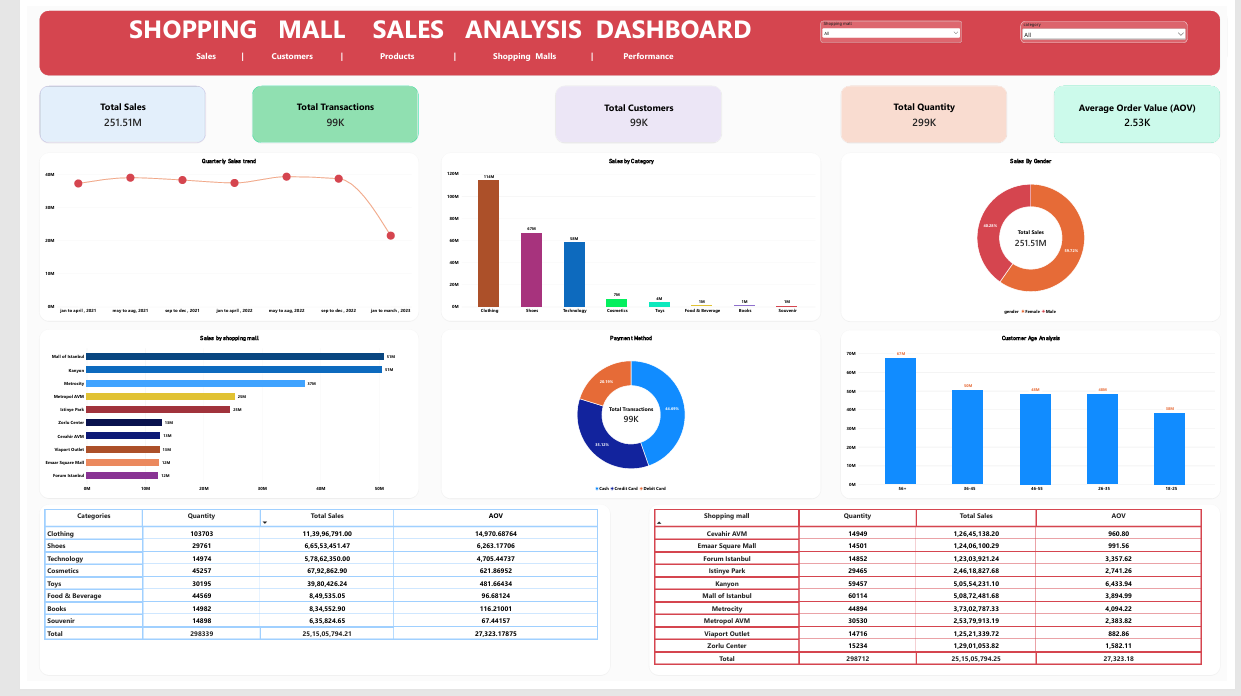

Layout of this report page (visuals, bound fields, positions):
{"tool":"powerbi","page":{"name":"Page 1","canvas":[3840,2160],"ordinal":0},"visuals":[{"type":"lineChart","title":"Quarterly Sales  trend","fields":{"Category":["4 Month Sales Table.Period"],"Y":["Sum(4 Month Sales Table.Total Sales)","Sum(4 Month Sales Table.SortOrder)"]},"box":[38.8,468.7,1212.3,536.9],"z":0},{"type":"columnChart","title":"Sales by  Category","fields":{"Category":["shopping_mall_category_analysis.category"],"Y":["Sum(shopping_mall_category_analysis.total_sales)"]},"box":[1325.4,468.7,1212.3,536.9],"z":1000},{"type":"donutChart","title":"Sales By  Gender","fields":{"Category":["shopping_mall_gender_analysis.gender"],"Y":["Sum(shopping_mall_gender_analysis.total_sales)"]},"box":[2604.5,468.7,1212.3,538.5],"z":2000},{"type":"barChart","title":"Sales by shopping mall","fields":{"Category":["shopping_mall_location_analysis.shopping_mall"],"Y":["Sum(shopping_mall_location_analysis.total_sales)"]},"box":[38.8,1034.3,1212.2,539],"z":3000},{"type":"donutChart","title":"Payment  Method","fields":{"Category":["shopping_mall_payment_analysis.payment_method"],"Y":["Sum(shopping_mall_payment_analysis.transactions)"]},"box":[1325.4,1034.3,1212.7,539.4],"z":4000},{"type":"lineStackedColumnComboChart","title":"Customer Age Analysis","fields":{"Category":["shopping_mall_age_analysis.age_group"],"Y":["Sum(shopping_mall_age_analysis.total_sales)"]},"box":[2603,1035.8,1214.1,538],"z":5000},{"type":"pivotTable","fields":{"Rows":["Shopping_Mall_data - analysis.Categories"],"Values":["Sum(Shopping_Mall_data - analysis.Quantity)","Sum(Shopping_Mall_data - analysis.Total  Sales)","Sum(Shopping_Mall_data - analysis.AOV)"]},"box":[38.8,1594,1825.4,544.8],"z":6000},{"type":"pivotTable","fields":{"Rows":["shopping_mall_wise_analysis.Shopping  mall"],"Values":["Sum(shopping_mall_wise_analysis.Quantity)","Sum(shopping_mall_wise_analysis.Total  Sales)","Sum(shopping_mall_wise_analysis.AOV)"]},"box":[1989.6,1594,1826.9,544.8],"z":7000},{"type":"cardVisual","fields":{"Data":["Sum(shopping_mall_category_analysis.total_sales)"]},"box":[38.8,253.7,531.3,182.1],"z":8000},{"type":"cardVisual","fields":{"Data":["Sum(shopping_mall_category_analysis.transactions)"]},"box":[719.4,253.7,531.3,182.1],"z":9000},{"type":"cardVisual","fields":{"Data":["Sum(shopping_mall_kpi.total_quantity)"]},"box":[2603,253.7,531.3,182.1],"z":10000},{"type":"cardVisual","fields":{"Data":["Sum(shopping_mall_kpi.average_order_value)"]},"box":[3285.1,253.7,531.3,182.1],"z":11000},{"type":"cardVisual","fields":{"Data":["Sum(shopping_mall_kpi.total_customers)"]},"box":[1689.6,253.7,531.3,182.1],"z":12000},{"type":"textbox","box":[39.2,13.7,3776.5,205.9],"z":13000},{"type":"slicer","fields":{"Values":["shopping_mall_wise_analysis.Shopping  mall"]},"box":[2537.5,46.2,452.9,70.2],"z":14000},{"type":"slicer","fields":{"Values":["shopping_mall_category_analysis.category"]},"box":[3178.3,46.7,533.3,70],"z":15000}]}

Visuals, with their boxes in screenshot pixels (x1, y1, x2, y2), scaled from the page's 3840x2160 canvas onto the 1241x696 screenshot:
"Quarterly Sales  trend" lineChart: x1=13 y1=151 x2=404 y2=324
"Sales by  Category" columnChart: x1=428 y1=151 x2=820 y2=324
"Sales By  Gender" donutChart: x1=842 y1=151 x2=1234 y2=325
"Sales by shopping mall" barChart: x1=13 y1=333 x2=404 y2=507
"Payment  Method" donutChart: x1=428 y1=333 x2=820 y2=507
"Customer Age Analysis" lineStackedColumnComboChart: x1=841 y1=334 x2=1234 y2=507
pivotTable - Shopping_Mall_data - analysis.Categories x Sum(Shopping_Mall_data - analysis.Quantity): x1=13 y1=514 x2=602 y2=689
pivotTable - shopping_mall_wise_analysis.Shopping  mall x Sum(shopping_mall_wise_analysis.Quantity): x1=643 y1=514 x2=1233 y2=689
cardVisual - Sum(shopping_mall_category_analysis.total_sales): x1=13 y1=82 x2=184 y2=140
cardVisual - Sum(shopping_mall_category_analysis.transactions): x1=232 y1=82 x2=404 y2=140
cardVisual - Sum(shopping_mall_kpi.total_quantity): x1=841 y1=82 x2=1013 y2=140
cardVisual - Sum(shopping_mall_kpi.average_order_value): x1=1062 y1=82 x2=1233 y2=140
cardVisual - Sum(shopping_mall_kpi.total_customers): x1=546 y1=82 x2=718 y2=140
textbox: x1=13 y1=4 x2=1233 y2=71
slicer - shopping_mall_wise_analysis.Shopping  mall: x1=820 y1=15 x2=966 y2=38
slicer - shopping_mall_category_analysis.category: x1=1027 y1=15 x2=1200 y2=38
